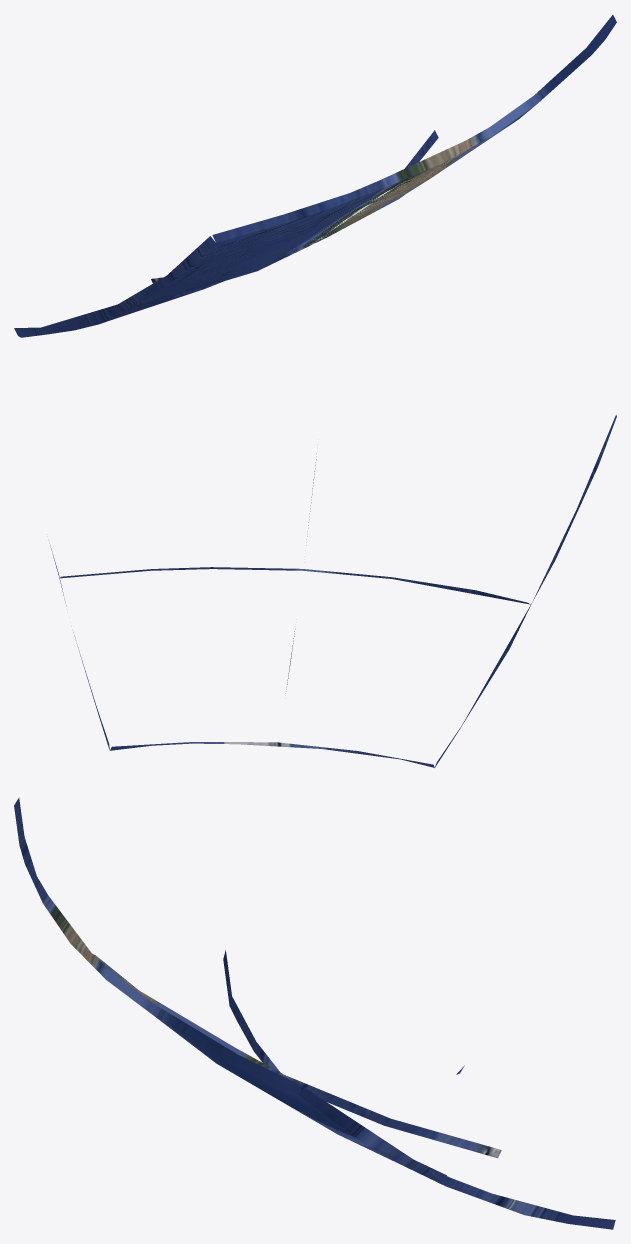
3 views of the same model, one above another, from view 1: azimuth 30°, elevation 25°; view 2: azimuth 150°, elevation 25°; view 3: azimuth 270°, elevation 25° (orthographic). The views are drawn at different scales.
Size of the model in its own units: 3223583 by 1436824 by 2826883.
1 material, 1 textured.
